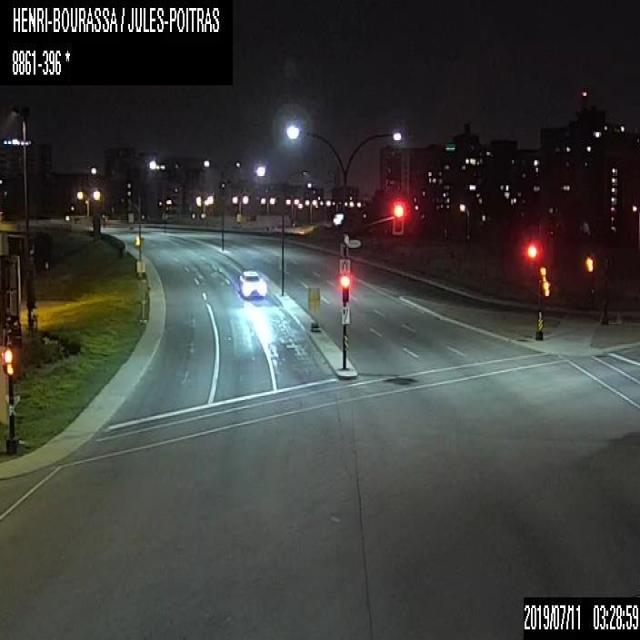vehicle: (238, 268, 266, 297)
